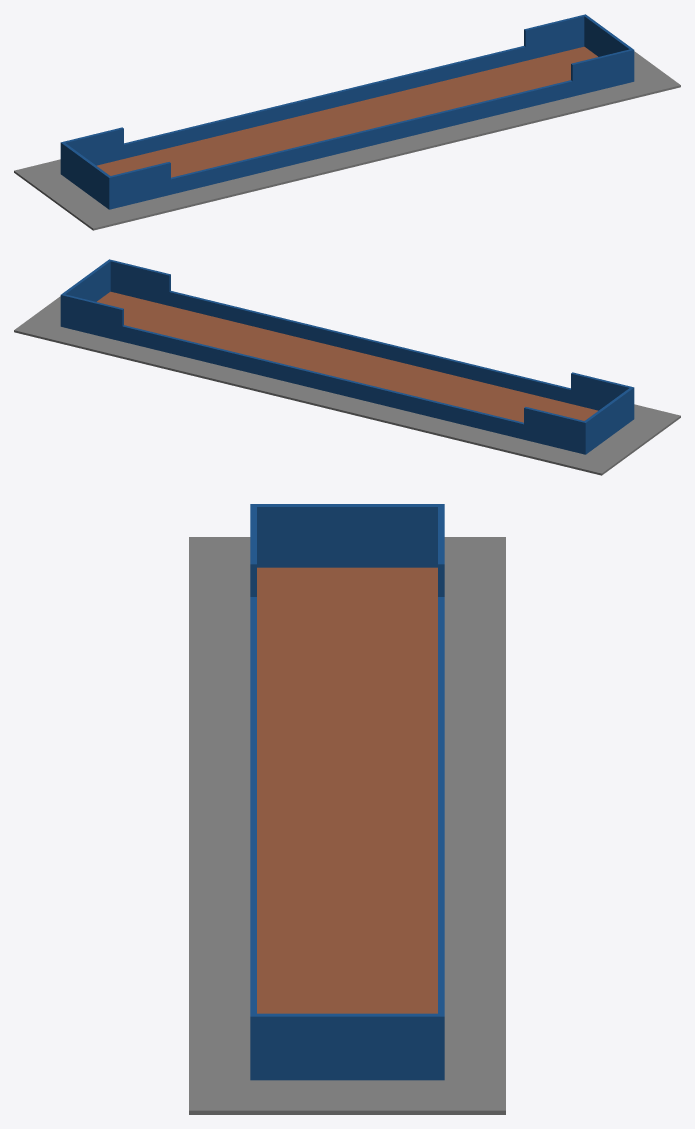
Rendered from campo_bocha_descoberta.glb.
3 renders of one model, top to bottom at view 1: azimuth 30°, elevation 25°; view 2: azimuth 150°, elevation 25°; view 3: azimuth 270°, elevation 25°, orthographic. The views are drawn at different scales.
Bounding box in the file's own units: 30 × 1.65 × 7.
